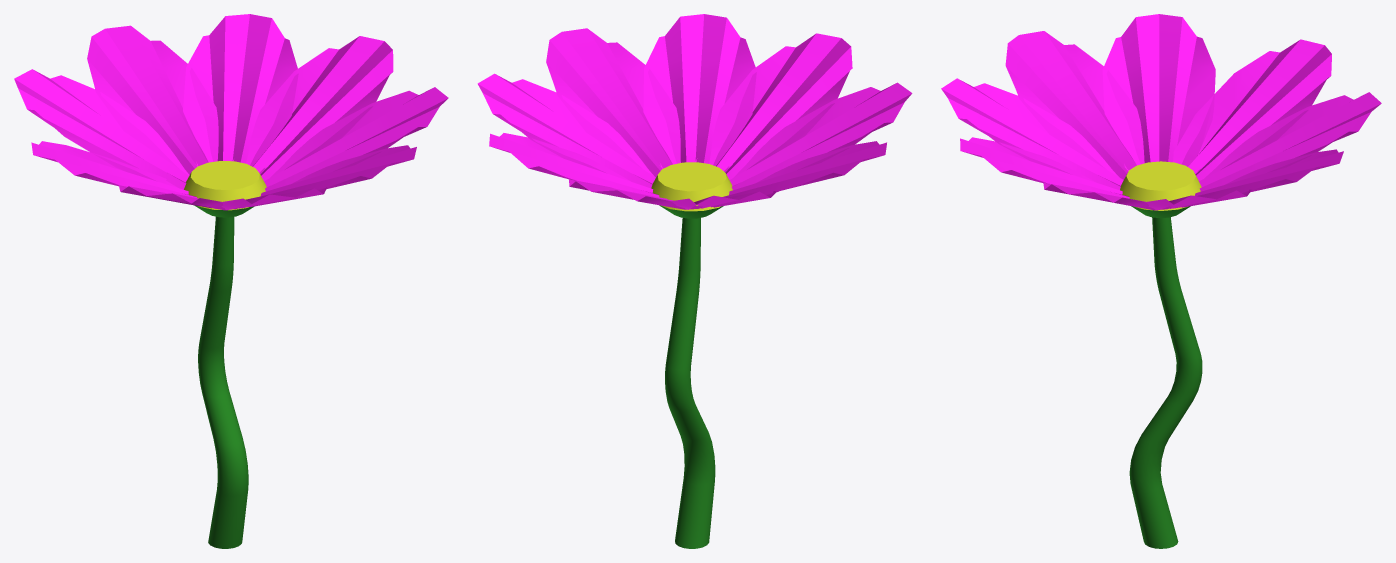
The model's file is bloem-3.fbx.
The picture shows the model from 3 angles, left to right: view 1: azimuth 30°, elevation 25°; view 2: azimuth 150°, elevation 25°; view 3: azimuth 270°, elevation 25°; orthographic projection.
Visible parts, largest first — view 1: Circle, Circle.001, Circle.002; view 2: Circle, Circle.001, Circle.002; view 3: Circle, Circle.001, Circle.002.
Boxes of the visible parts, x1,y1,x2,y2 form: Circle: [14, 14, 448, 210]; Circle.001: [194, 205, 254, 548]; Circle.002: [184, 161, 266, 210]; Circle: [477, 14, 912, 209]; Circle.001: [659, 205, 723, 548]; Circle.002: [651, 162, 732, 211]; Circle: [941, 14, 1381, 210]; Circle.001: [1129, 206, 1202, 548]; Circle.002: [1120, 161, 1201, 210].
Size of the model in its own units: 452 by 495 by 455.
